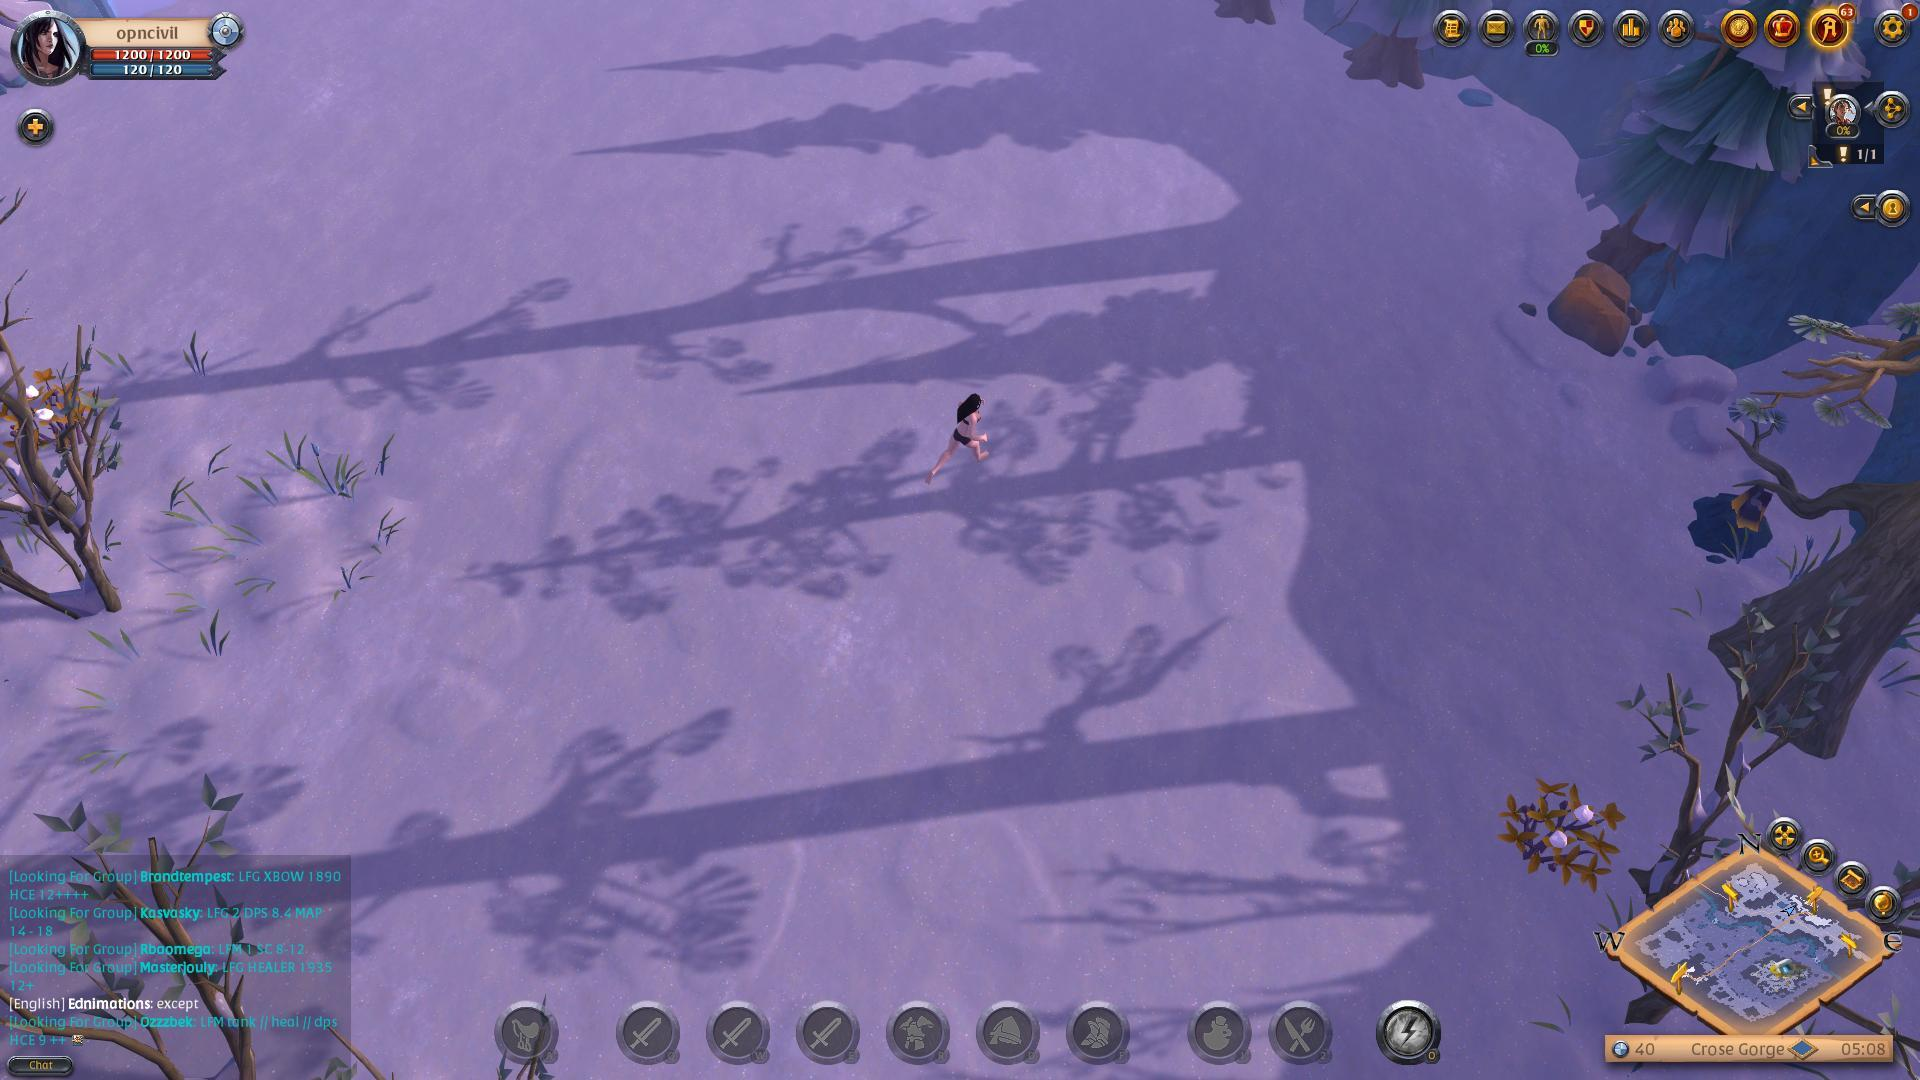copper_ore: (1681, 471, 1787, 563)
cotton: (1497, 774, 1623, 884)
limestone: (1547, 255, 1655, 363)
